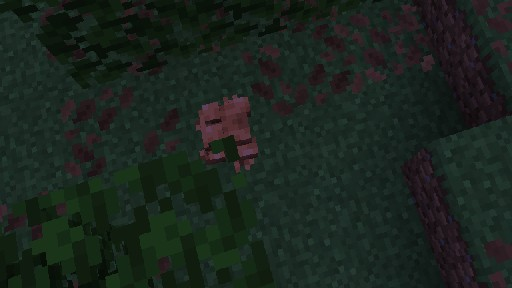frog: (193, 93, 258, 172)
